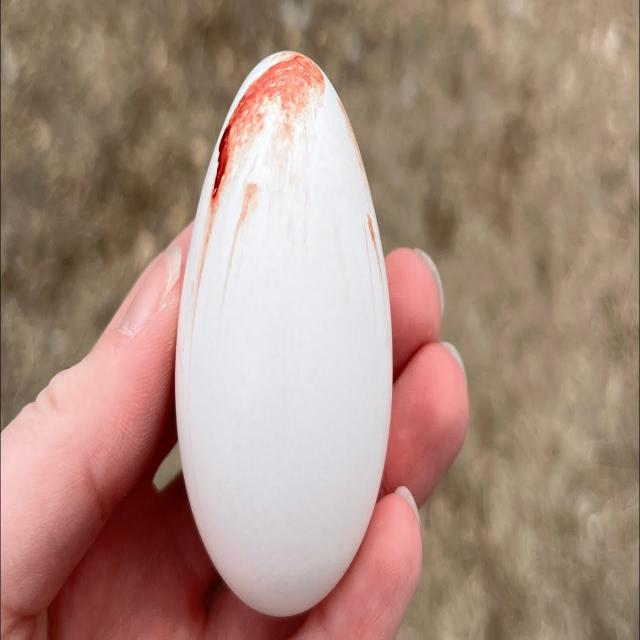Blood Stained Egg: (164, 39, 407, 630)
